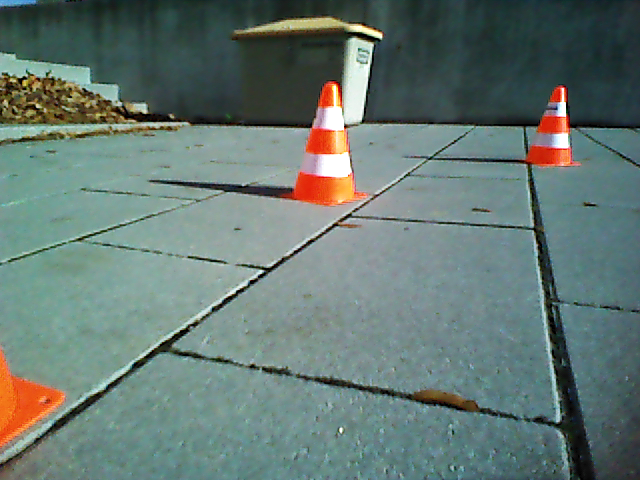orangeconesmall: (290, 82, 362, 205), (525, 84, 578, 166)
